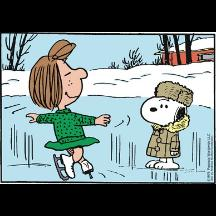snoopy: (139, 80, 195, 170)
